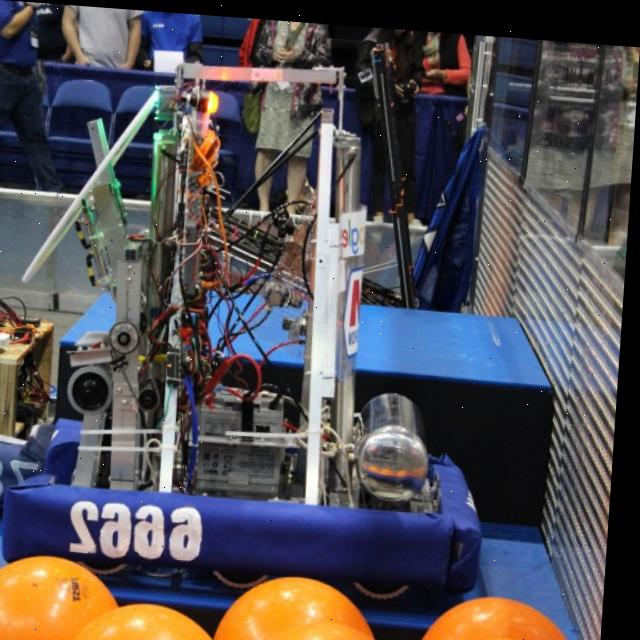robot: (9, 28, 512, 590), (0, 289, 69, 508)
